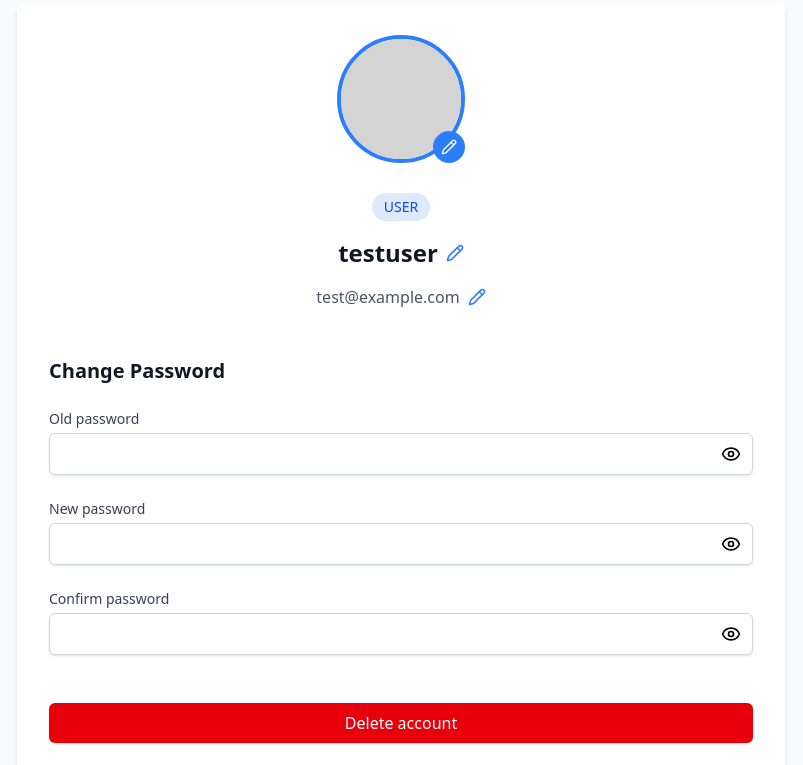
Test: Account Component › should allow editing email
Expected: the text "test@example.com" is shown, [316,285,460,309]
Click the button without text next to "test@example.com": point(477, 297) [468,288,486,306]
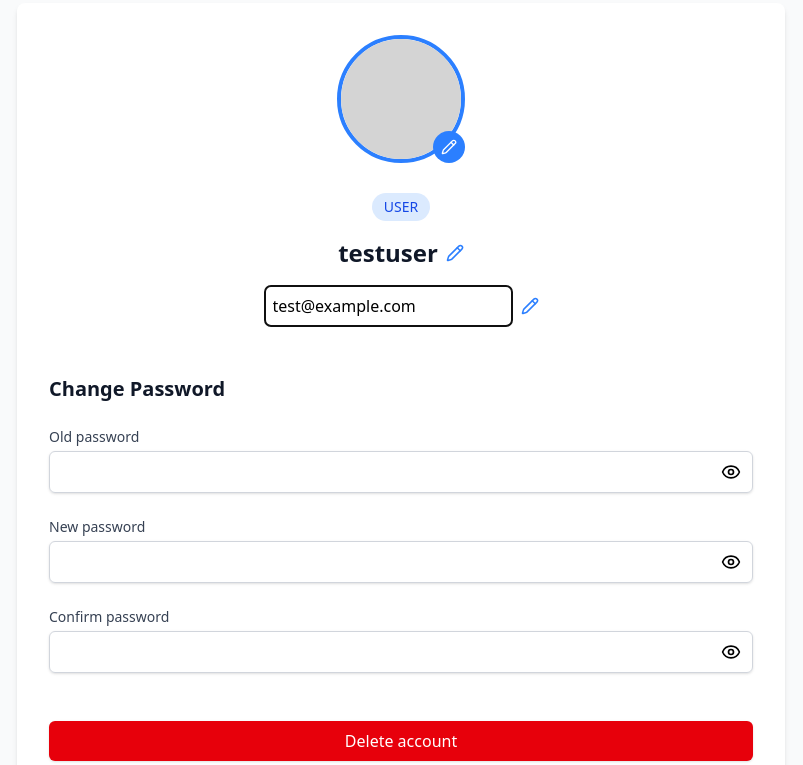
Replace the text in the field with "new@example.com": point(388, 306) [264,285,512,327]
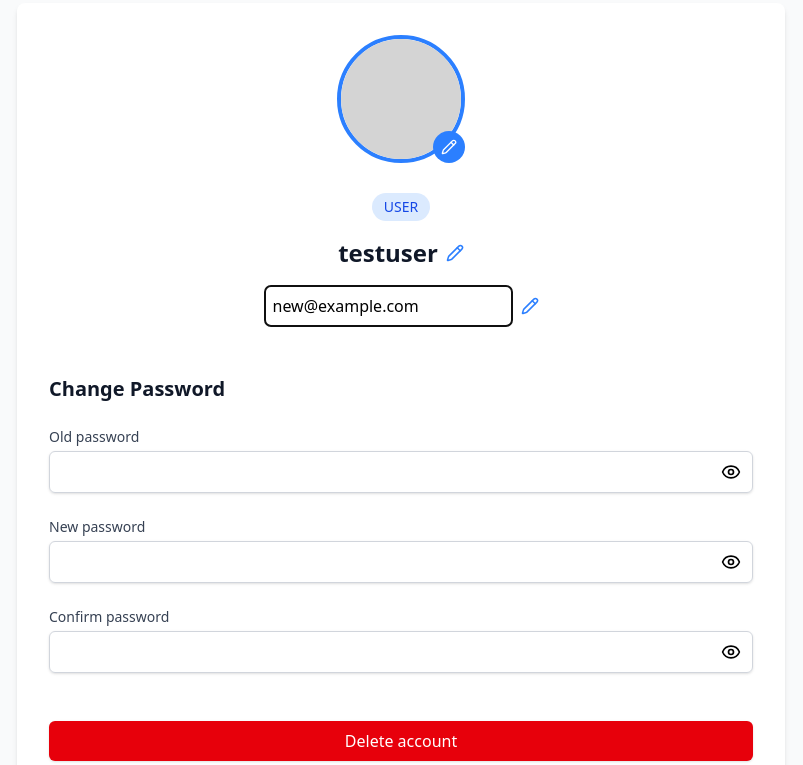
Submit the form from the field, box [264,285,512,327]
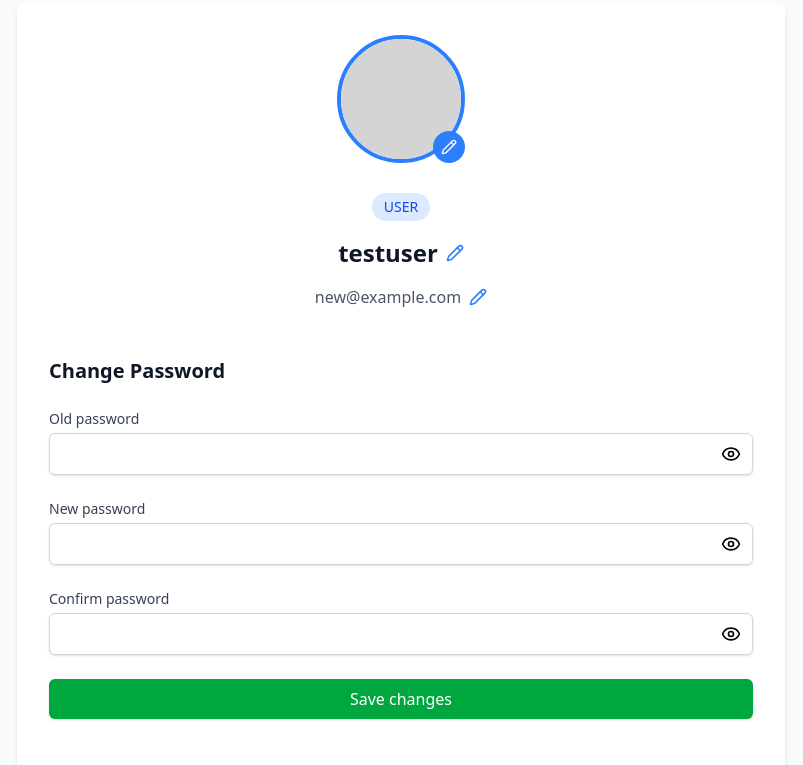
Expected: the text "new@example.com" is shown, [315,285,461,309]
